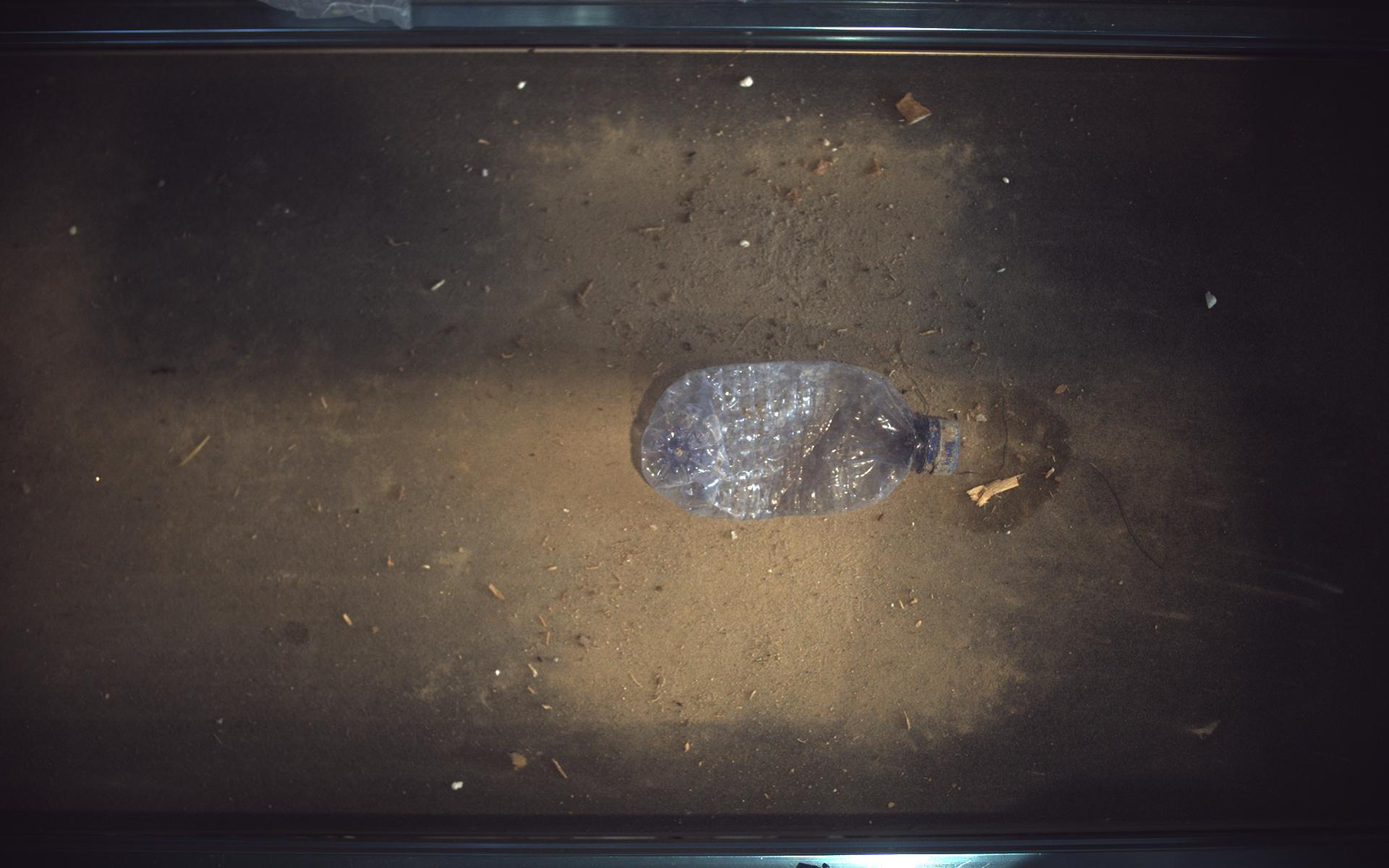general_w: (641, 362, 961, 520)
